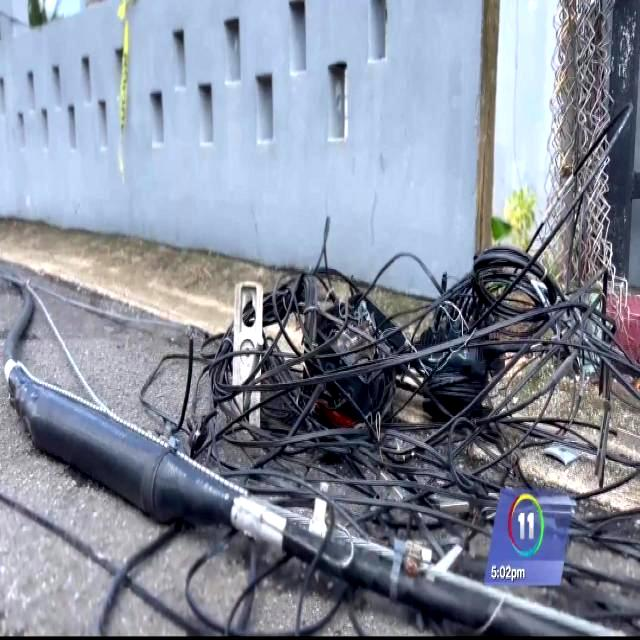Broken Pole: (0, 351, 621, 638)
